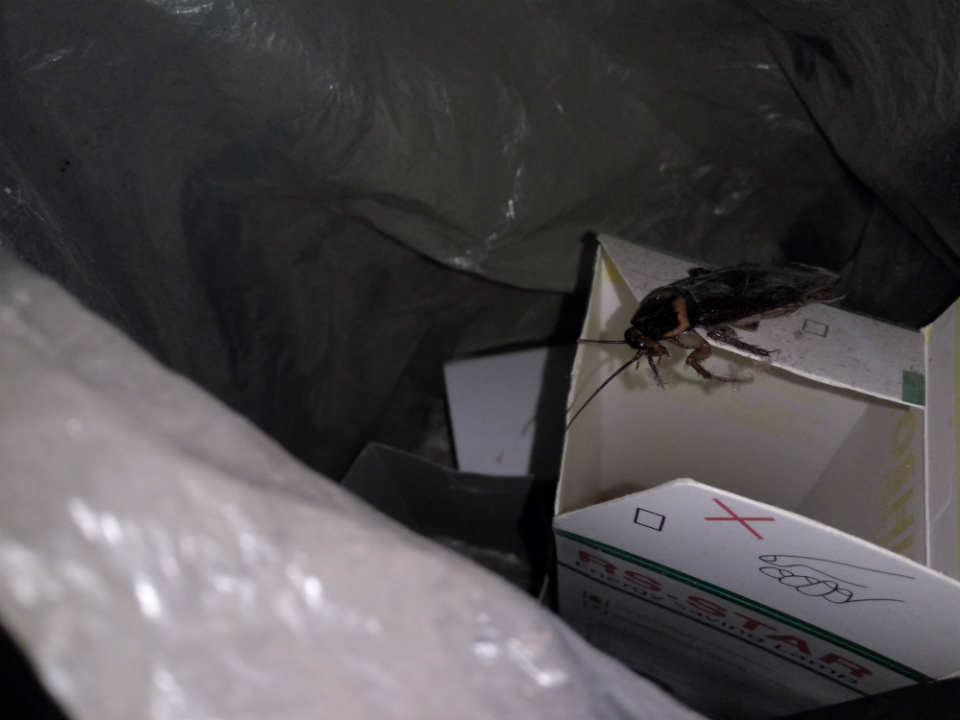cockroach: (510, 247, 890, 383)
